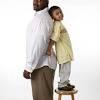Persons: (48, 3, 70, 27), (29, 0, 49, 12)
